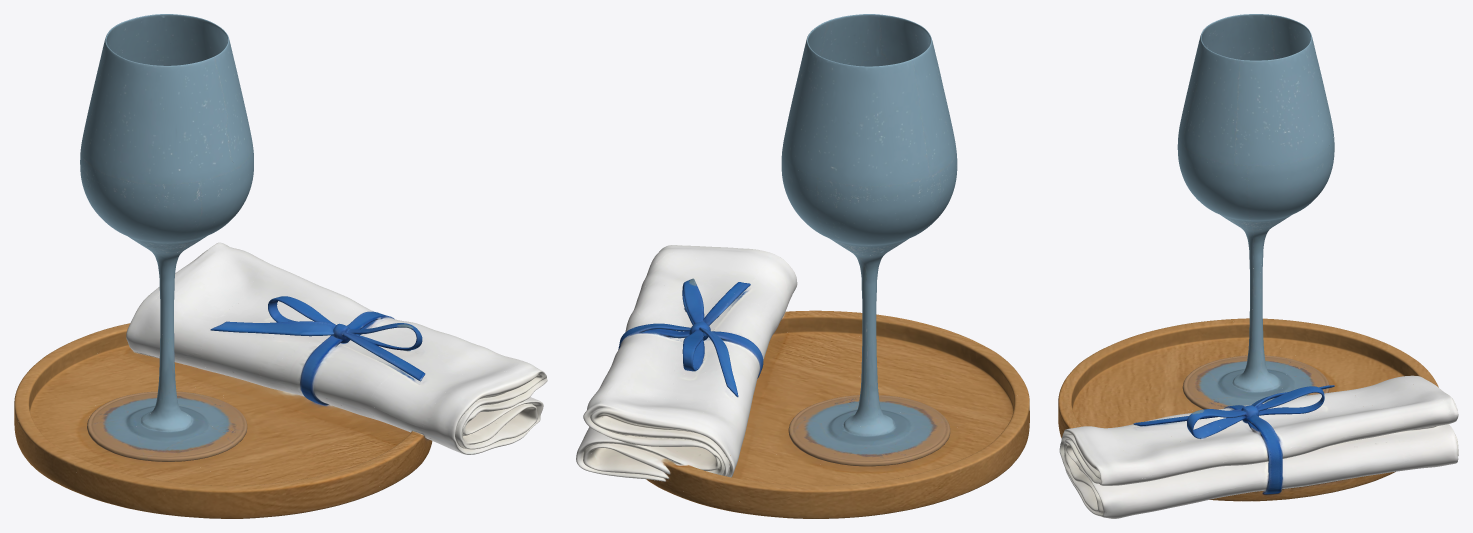
Rendered from wedding-glass.glb.
The picture shows the model from 3 angles, left to right: view 1: azimuth 30°, elevation 25°; view 2: azimuth 150°, elevation 25°; view 3: azimuth 270°, elevation 25°; orthographic projection. The views are drawn at different scales.
Parts seen in each view (by area): view 1: tripo_node_45fd1689-a6d7-470a-ba61-287bf140a50e; view 2: tripo_node_45fd1689-a6d7-470a-ba61-287bf140a50e; view 3: tripo_node_45fd1689-a6d7-470a-ba61-287bf140a50e.
Part boxes in pixels (x1=…): tripo_node_45fd1689-a6d7-470a-ba61-287bf140a50e: x1=14, y1=14, x2=547, y2=518; tripo_node_45fd1689-a6d7-470a-ba61-287bf140a50e: x1=576, y1=14, x2=1029, y2=518; tripo_node_45fd1689-a6d7-470a-ba61-287bf140a50e: x1=1058, y1=14, x2=1458, y2=518.
Bounding box in the file's own units: 0.9801 × 0.8911 × 0.8852.
1 material, 1 textured.
